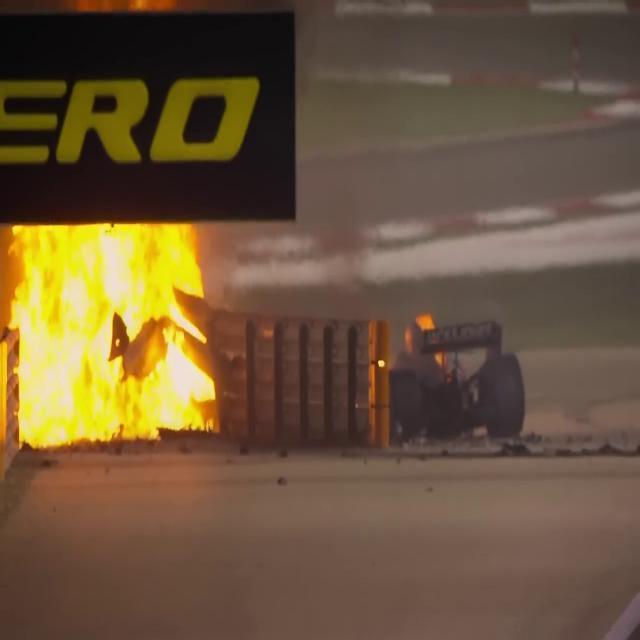Fire: (1, 218, 226, 442)
